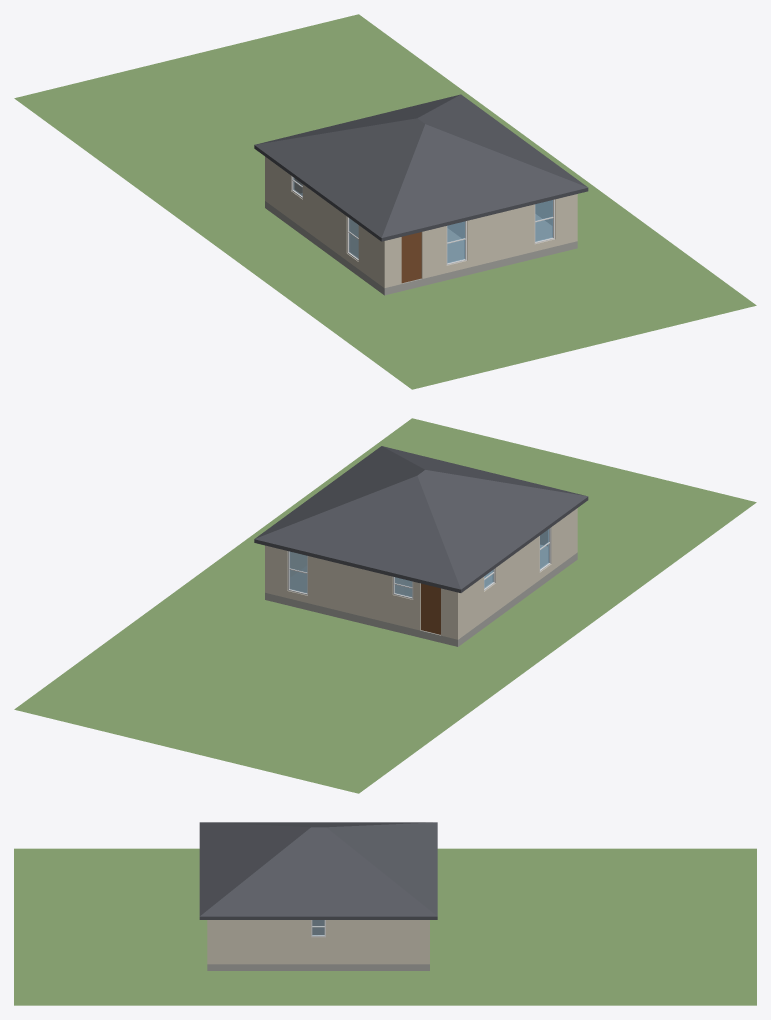
The picture shows the model from 3 angles, top to bottom: view 1: azimuth 30°, elevation 25°; view 2: azimuth 150°, elevation 25°; view 3: azimuth 270°, elevation 25°; orthographic projection. The views are drawn at different scales.
Parts seen in each view (by area): view 1: SITE, ROOF, ext-front, ext-left, SLAB-L1, D01, N01, N05; view 2: SITE, ROOF, ext-back, ext-left, SLAB-L1, D02, N06; view 3: SITE, ROOF, ext-right, SLAB-L1.
Part boxes in pixels (bbox=[...]): SITE: bbox=[14, 14, 756, 389]; ROOF: bbox=[254, 94, 588, 241]; ext-front: bbox=[382, 194, 577, 288]; ext-left: bbox=[267, 158, 382, 286]; SLAB-L1: bbox=[265, 193, 577, 295]; D01: bbox=[401, 232, 421, 283]; N01: bbox=[447, 221, 465, 263]; N05: bbox=[535, 200, 552, 241]; SITE: bbox=[14, 418, 756, 793]; ROOF: bbox=[254, 446, 588, 592]; ext-back: bbox=[265, 545, 459, 639]; ext-left: bbox=[460, 509, 575, 637]; SLAB-L1: bbox=[265, 545, 577, 646]; D02: bbox=[421, 583, 440, 634]; N06: bbox=[289, 551, 307, 593]; SITE: bbox=[14, 848, 756, 1005]; ROOF: bbox=[199, 822, 437, 919]; ext-right: bbox=[211, 920, 426, 964]; SLAB-L1: bbox=[207, 964, 429, 970].
Bounding box in the file's own units: 15.24 × 4.52 × 30.48.
